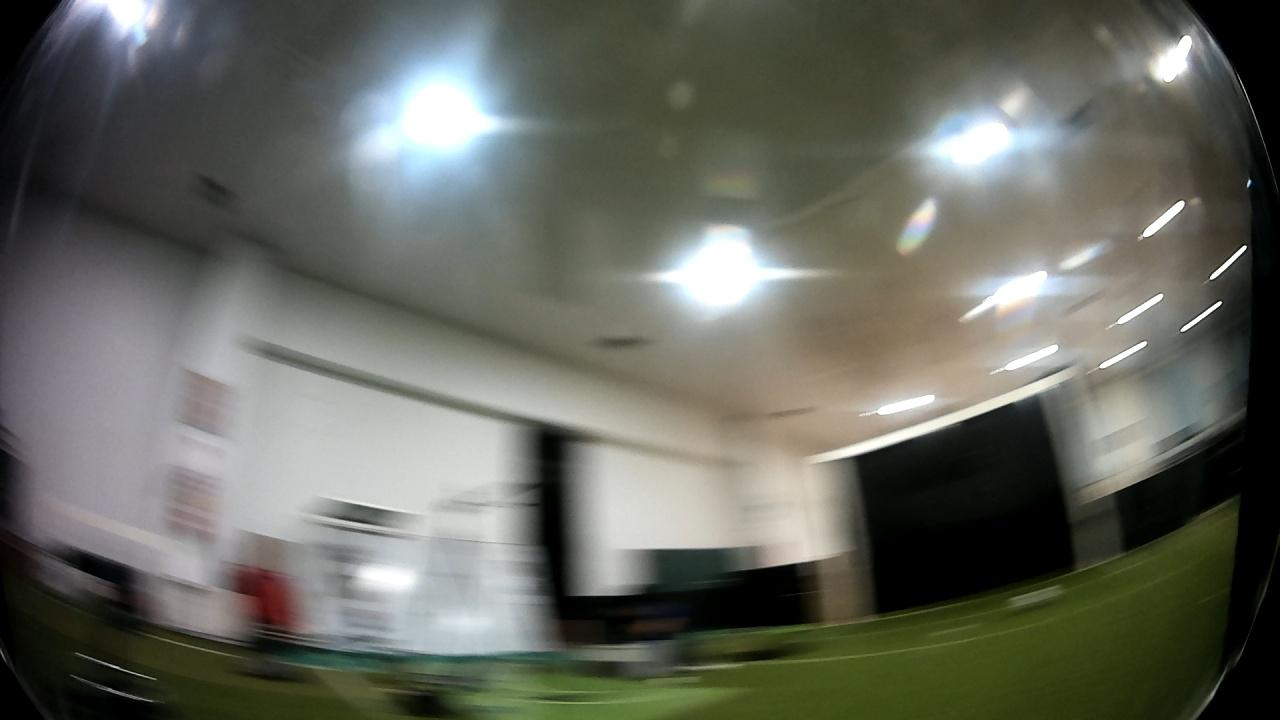ball: (1000, 578, 1066, 623)
